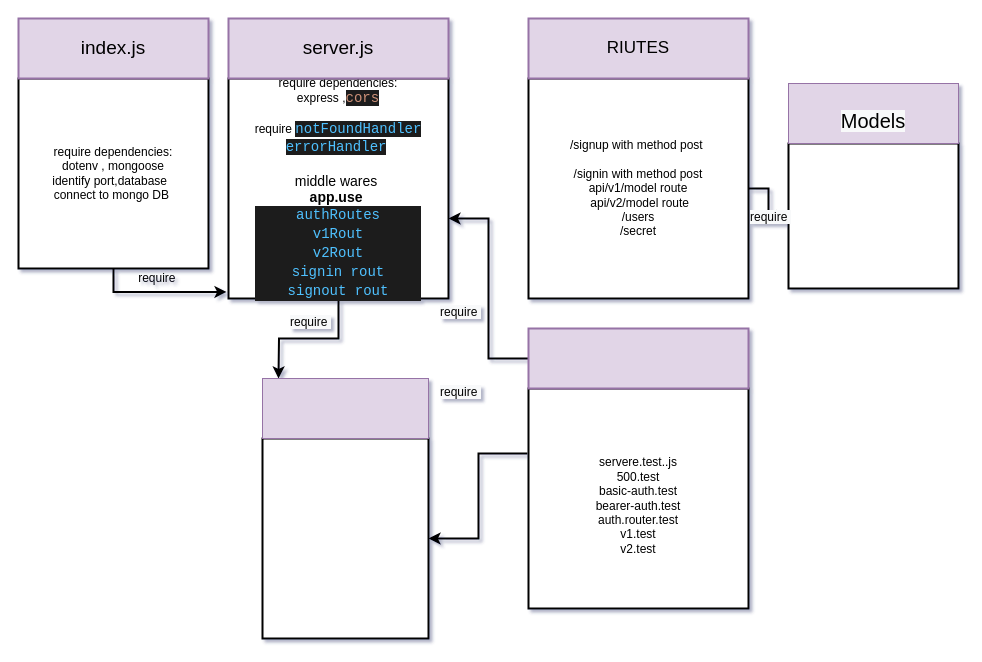
This 982x662 diagram has some shape labels left out. Here are the shapes that lost their labels. From the top down, the box of each, then its label:
(787, 142, 959, 289): /router.js schema food schema clothes schema
(527, 327, 749, 389): --test--
(262, 378, 428, 438): Auth middleware
(261, 437, 429, 639): basic auth bearer auth ACL auth
